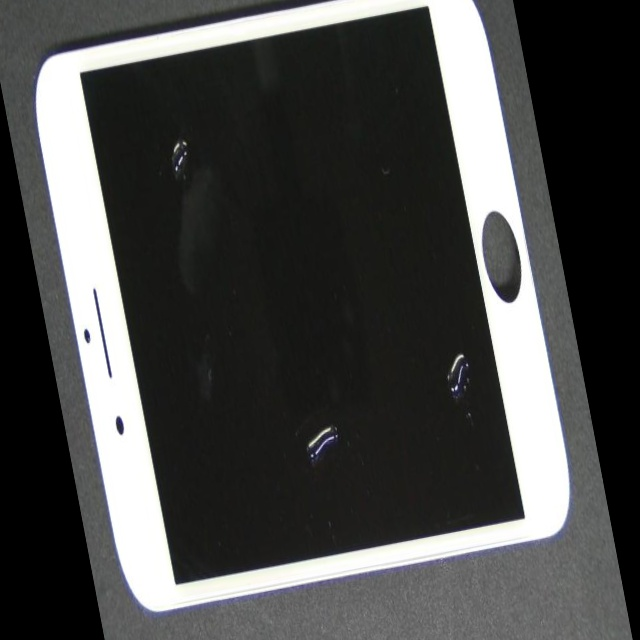oil: (232, 114, 615, 600), (173, 146, 492, 640), (92, 33, 267, 234)
